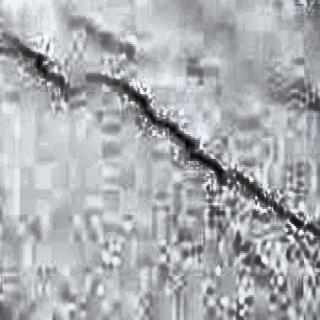crack: (15, 36, 320, 241)
